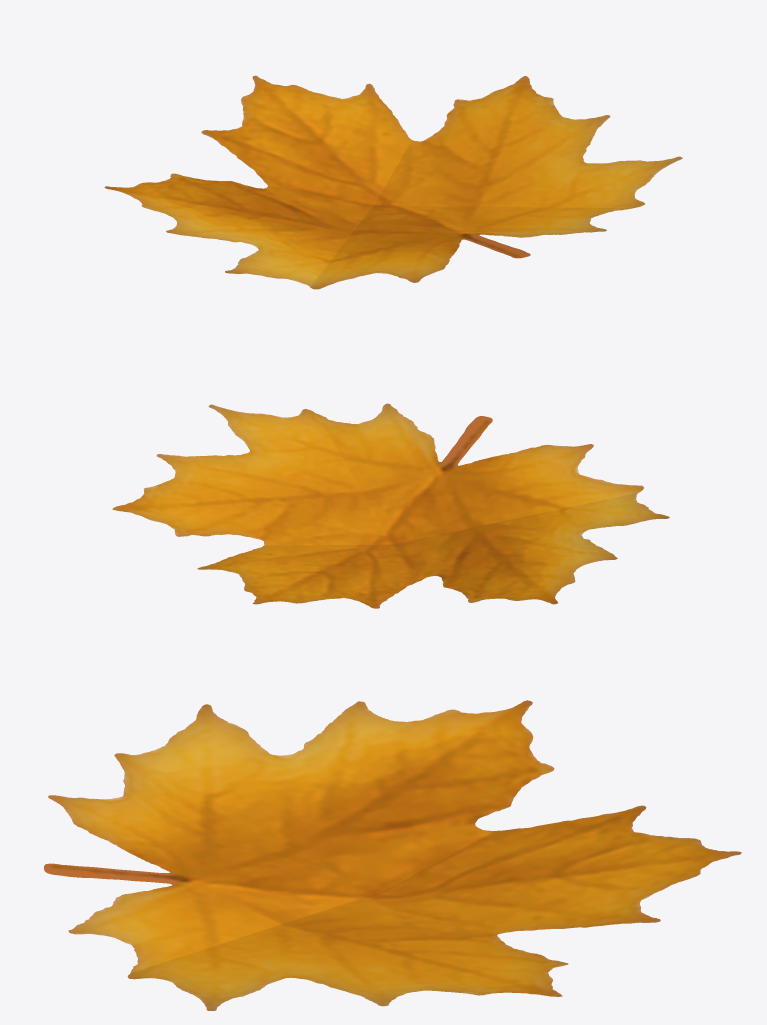
The model's file is FSF_Leaf_02.FBX.
The picture shows the model from 3 angles, top to bottom: view 1: azimuth 30°, elevation 25°; view 2: azimuth 150°, elevation 25°; view 3: azimuth 270°, elevation 25°; orthographic projection. The views are drawn at different scales.
Parts seen in each view (by area): view 1: FSF_Leaf_02; view 2: FSF_Leaf_02; view 3: FSF_Leaf_02.
Boxes of the visible parts, bbox=[...] form: FSF_Leaf_02: bbox=[104, 75, 682, 289]; FSF_Leaf_02: bbox=[112, 403, 669, 608]; FSF_Leaf_02: bbox=[44, 700, 741, 1010].
Size of the model in its own units: 10.76 by 0.7317 by 10.54.
